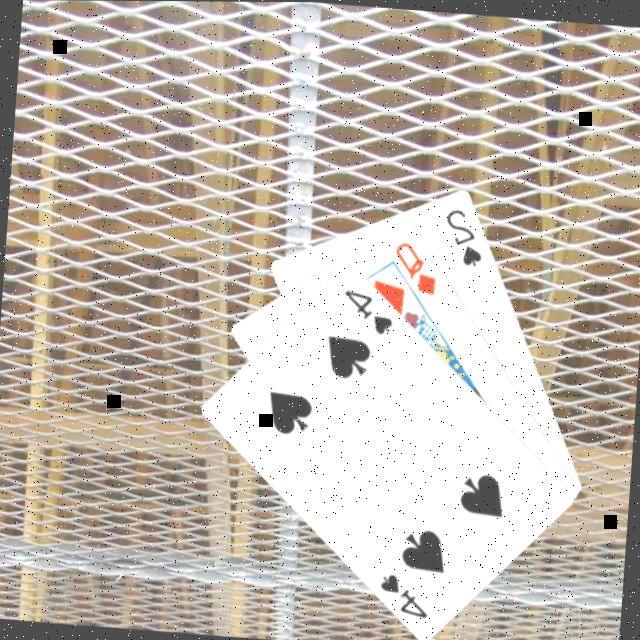2S: (440, 201, 489, 268)
4S: (375, 565, 435, 619), (339, 282, 399, 335)
QD: (389, 234, 443, 295)
